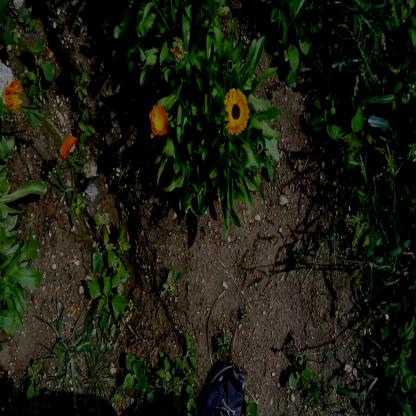marigold: (225, 90, 248, 134), (147, 99, 168, 138)
